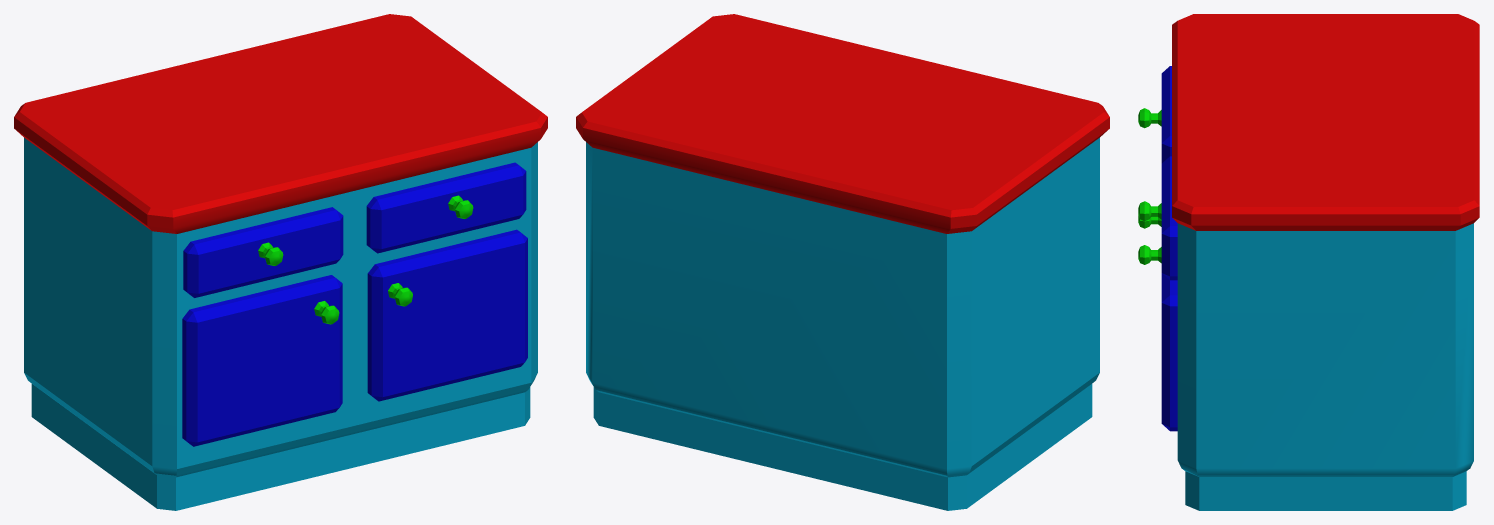
Rendered from Mesh_Meuble_001.fbx.
3 renders of one model, left to right at view 1: azimuth 30°, elevation 25°; view 2: azimuth 150°, elevation 25°; view 3: azimuth 270°, elevation 25°, orthographic.
Visible parts, largest first — view 1: polySurface1; view 2: polySurface1; view 3: polySurface1.
Boxes of the visible parts, <box> form: polySurface1: <box>14,14,547,510</box>; polySurface1: <box>576,14,1109,510</box>; polySurface1: <box>1138,14,1479,510</box>.
Bounding box in the file's own units: 125 × 90.76 × 91.07.
